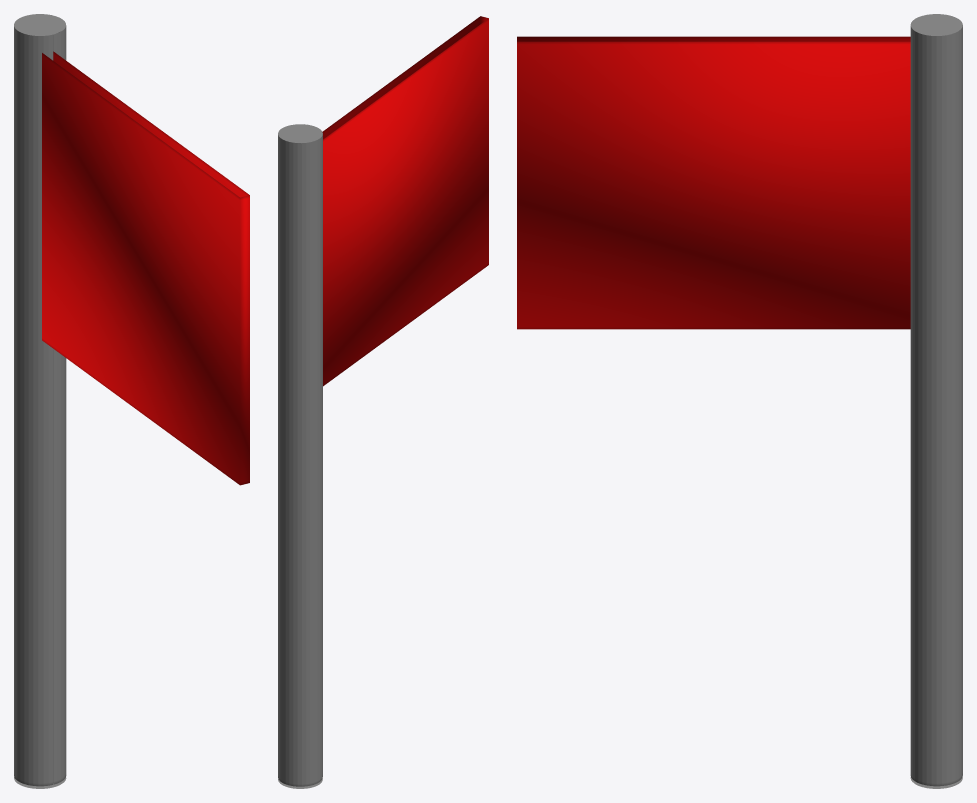
The model's file is flag.obj.
3 renders of one model, left to right at view 1: azimuth 30°, elevation 25°; view 2: azimuth 150°, elevation 25°; view 3: azimuth 270°, elevation 25°, orthographic. The views are drawn at different scales.
Visible parts, largest first — view 1: 円柱.001; view 2: 円柱.001; view 3: 円柱.001.
Boxes of the visible parts, bbox=[...] form: 円柱.001: bbox=[14, 14, 249, 788]; 円柱.001: bbox=[278, 16, 488, 788]; 円柱.001: bbox=[517, 14, 962, 788].
Bounding box in the file's own units: 0.4502 × 7.15 × 3.84.
1 material, 1 textured.
